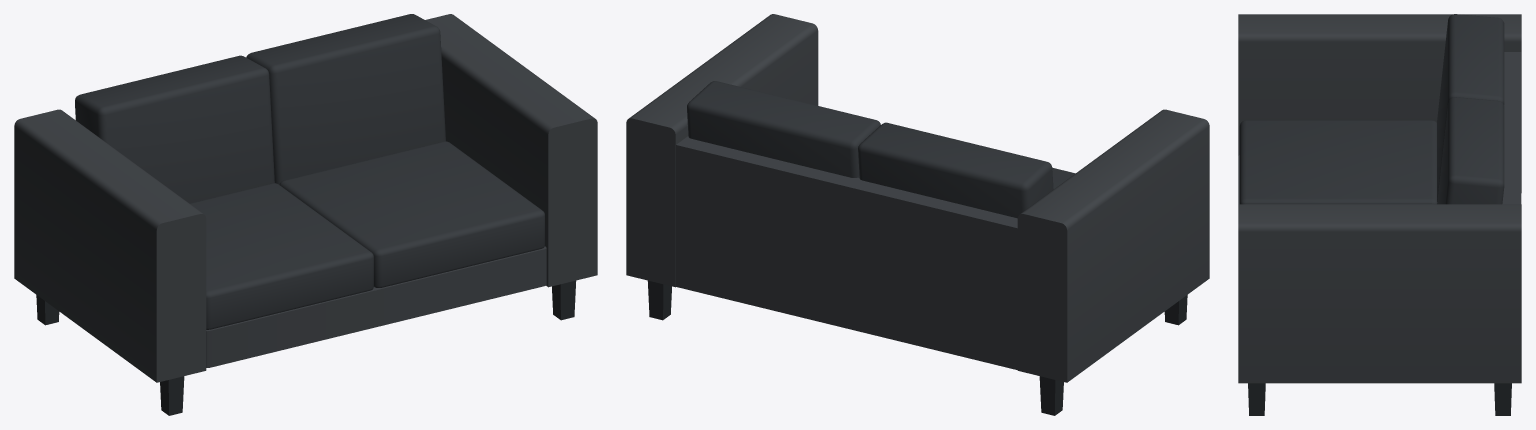
File: Sofa5_C1.fbx
3 views of the same model, side by side, from view 1: azimuth 30°, elevation 25°; view 2: azimuth 150°, elevation 25°; view 3: azimuth 270°, elevation 25° (orthographic).
Visible parts, largest first — view 1: Sofa5_C1; view 2: Sofa5_C1; view 3: Sofa5_C1.
Boxes of the visible parts, x1=… form: Sofa5_C1: x1=14, y1=14, x2=597, y2=415; Sofa5_C1: x1=626, y1=14, x2=1209, y2=415; Sofa5_C1: x1=1238, y1=14, x2=1521, y2=415.
Bounding box in the file's own units: 179 × 86.76 × 100.
